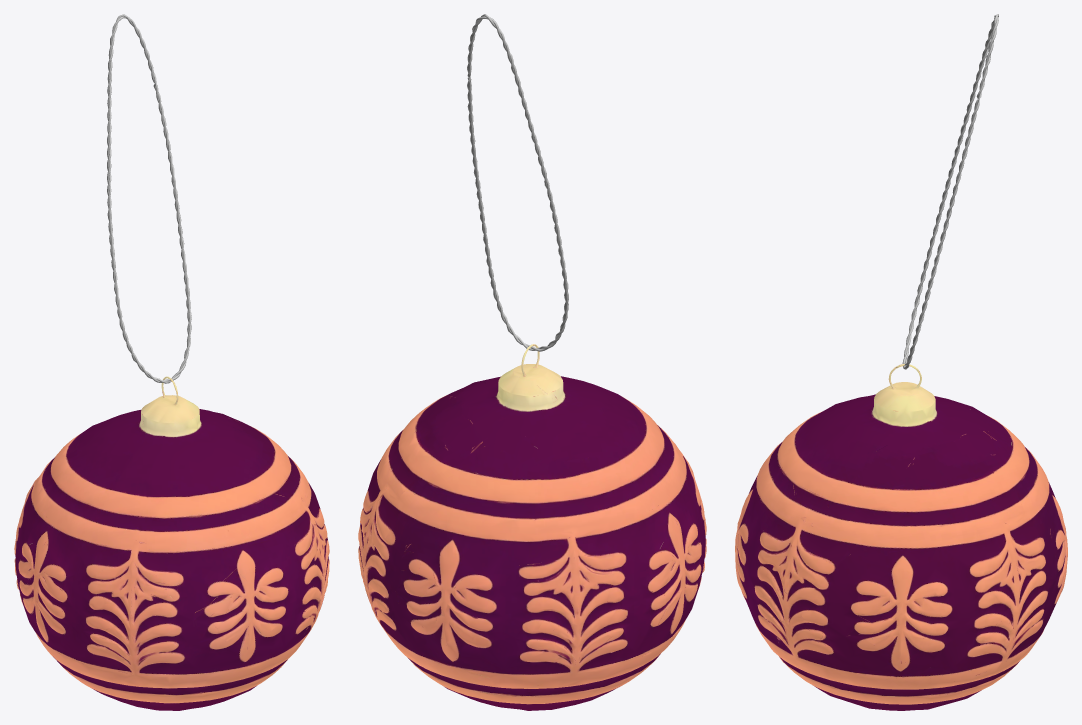
3 renders of one model, left to right at view 1: azimuth 30°, elevation 25°; view 2: azimuth 150°, elevation 25°; view 3: azimuth 270°, elevation 25°, orthographic. The views are drawn at different scales.
Parts seen in each view (by area): view 1: Mesh1.0, GN Instance; view 2: Mesh1.0, GN Instance; view 3: Mesh1.0, GN Instance.
Part boxes in pixels (x1,y1,x2,y2): Mesh1.0: (14, 376, 329, 710); GN Instance: (107, 14, 191, 383); Mesh1.0: (358, 344, 706, 710); GN Instance: (467, 14, 568, 351); Mesh1.0: (735, 364, 1067, 710); GN Instance: (902, 14, 998, 369).
Bounding box in the file's own units: 0.08 × 0.1799 × 0.08.
2 materials, 1 textured.
